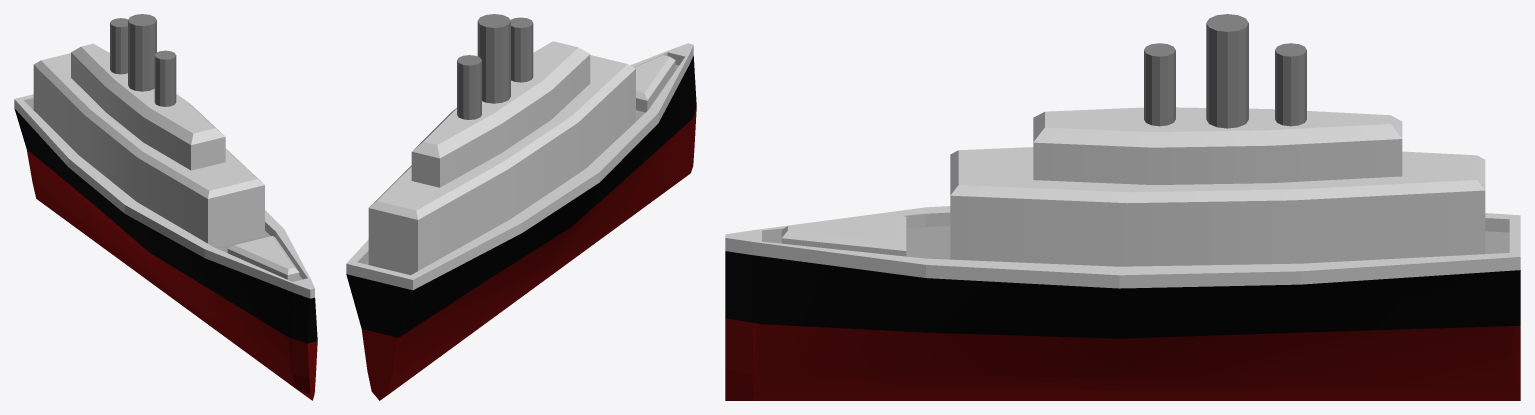
File: Titanic.fbx
The picture shows the model from 3 angles, left to right: view 1: azimuth 30°, elevation 25°; view 2: azimuth 150°, elevation 25°; view 3: azimuth 270°, elevation 25°; orthographic projection. The views are drawn at different scales.
Visible parts, largest first — view 1: pCylinder4; view 2: pCylinder4; view 3: pCylinder4.
Part boxes in pixels (x1,y1,x2,y2): pCylinder4: (14, 14, 317, 400); pCylinder4: (346, 14, 696, 400); pCylinder4: (725, 14, 1520, 400).
Bounding box in the file's own units: 5.13 × 11.54 × 21.99.
